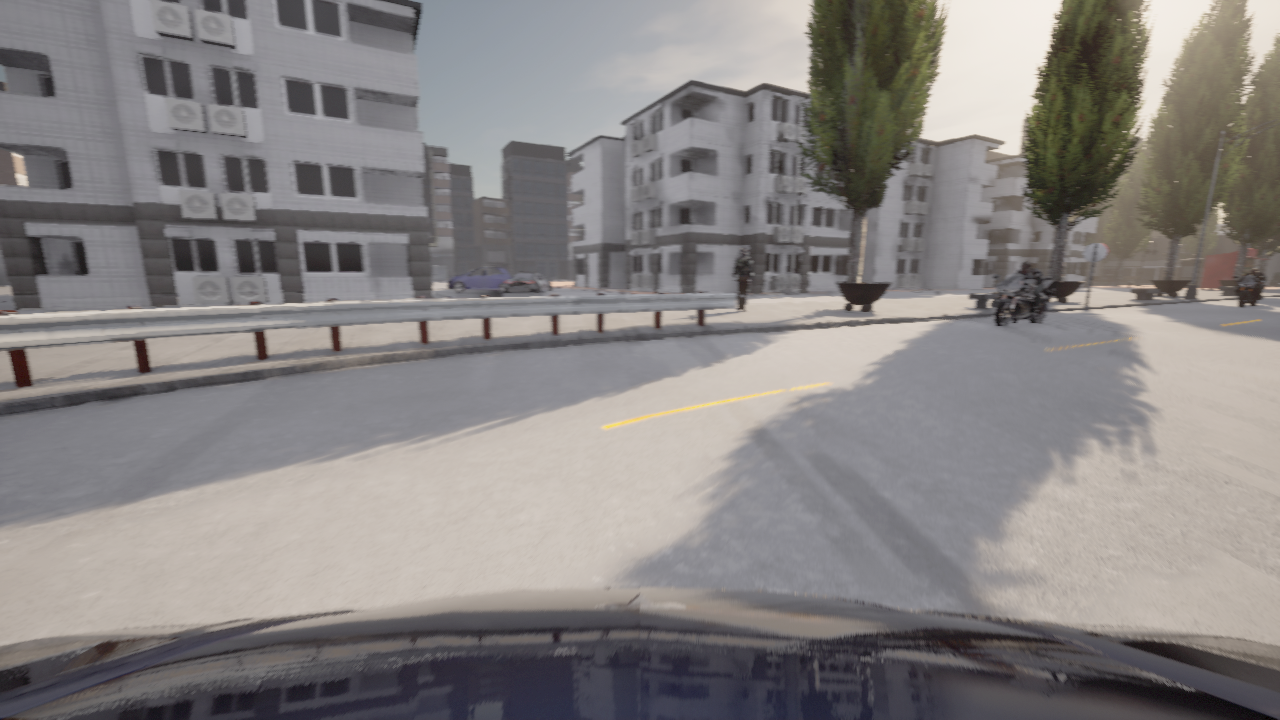cyclist: (0, 588, 1279, 719), (991, 274, 1055, 327), (447, 267, 510, 292), (503, 271, 551, 293), (1232, 276, 1266, 306), (504, 280, 534, 282)
pedestrian: (732, 246, 751, 312)
